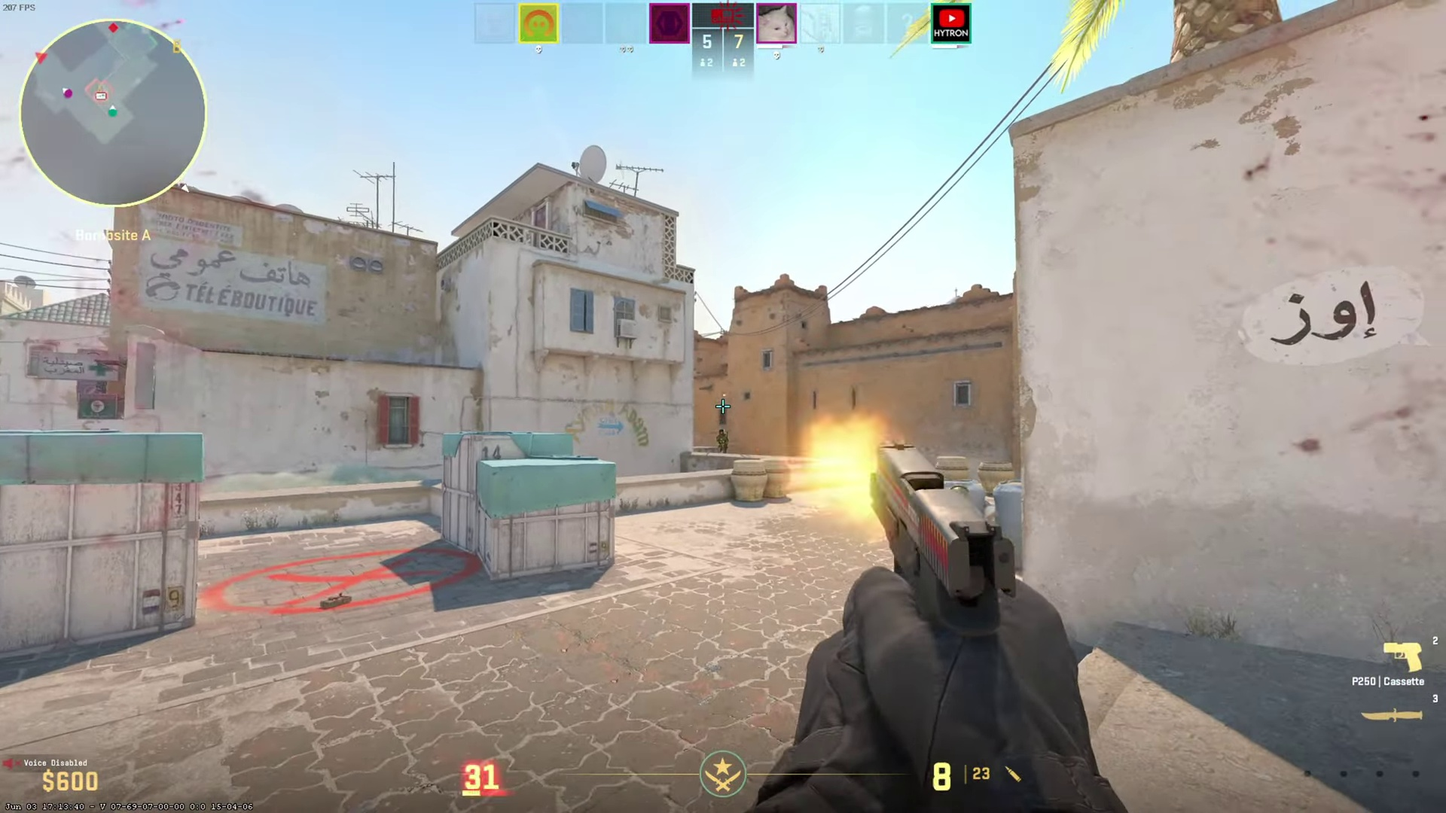CT: (717, 429, 728, 453)
